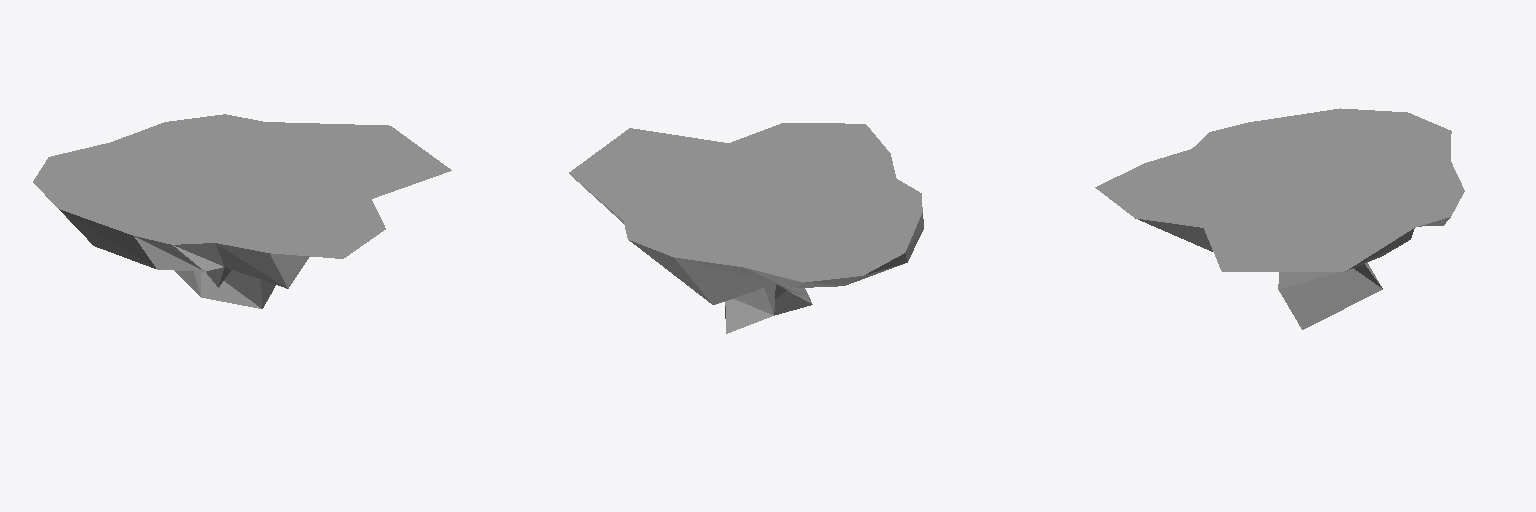
The model's file is Level2Platform1.obj.
3 views of the same model, side by side, from view 1: azimuth 30°, elevation 25°; view 2: azimuth 150°, elevation 25°; view 3: azimuth 270°, elevation 25° (orthographic).
Parts seen in each view (by area): view 1: Cube; view 2: Cube; view 3: Cube.
Boxes of the visible parts, x1=… form: Cube: x1=33, y1=114, x2=451, y2=308; Cube: x1=569, y1=123, x2=923, y2=333; Cube: x1=1095, y1=108, x2=1464, y2=329.
Size of the model in its own units: 9.84 by 3.7 by 9.42.